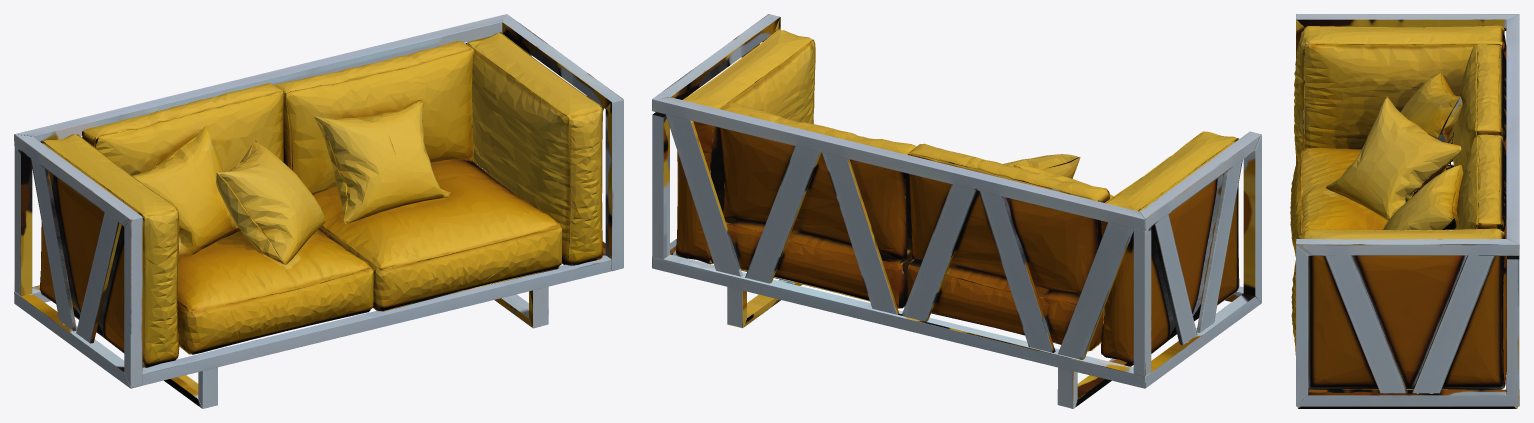
Rendered from edited_mesh.glb.
3 renders of one model, left to right at view 1: azimuth 30°, elevation 25°; view 2: azimuth 150°, elevation 25°; view 3: azimuth 270°, elevation 25°, orthographic. The views are drawn at different scales.
Parts seen in each view (by area): view 1: solid_001_wire; view 2: solid_001_wire; view 3: solid_001_wire.
Boxes of the visible parts, x1,y1,x2,y2 form: solid_001_wire: (14,14,623,408); solid_001_wire: (652,14,1261,408); solid_001_wire: (1290,14,1519,408).
Bounding box in the file's own units: 2 × 0.8164 × 0.8409.
1 material, 1 textured.
